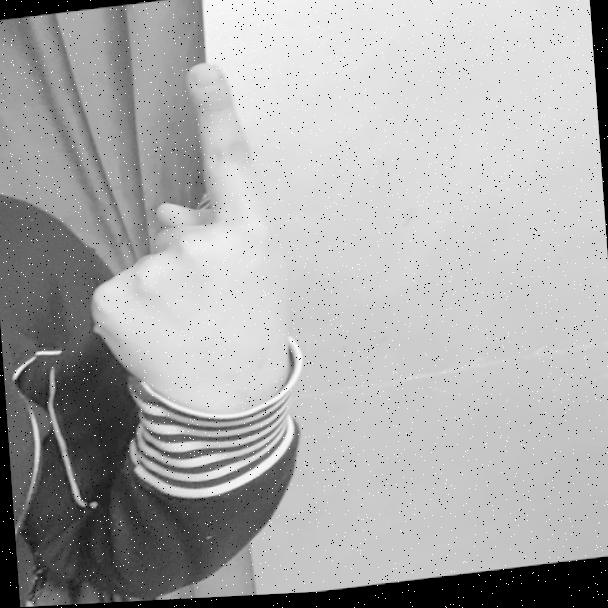one: (44, 41, 315, 460)
